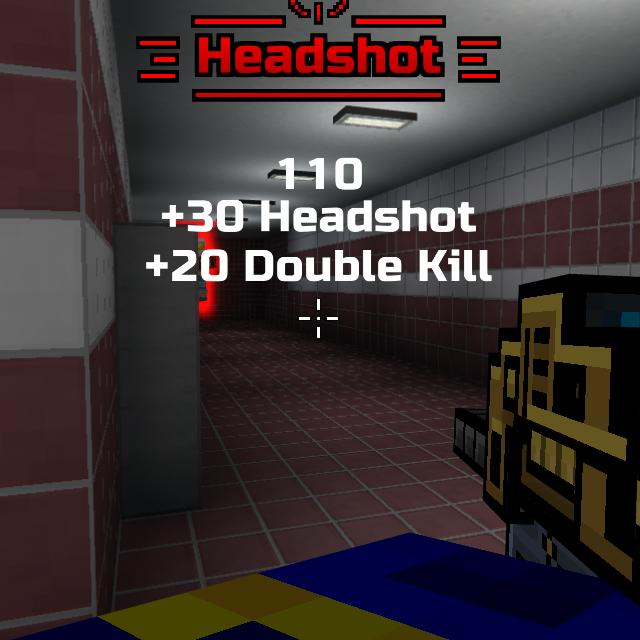Enemy: (199, 237, 218, 305)
